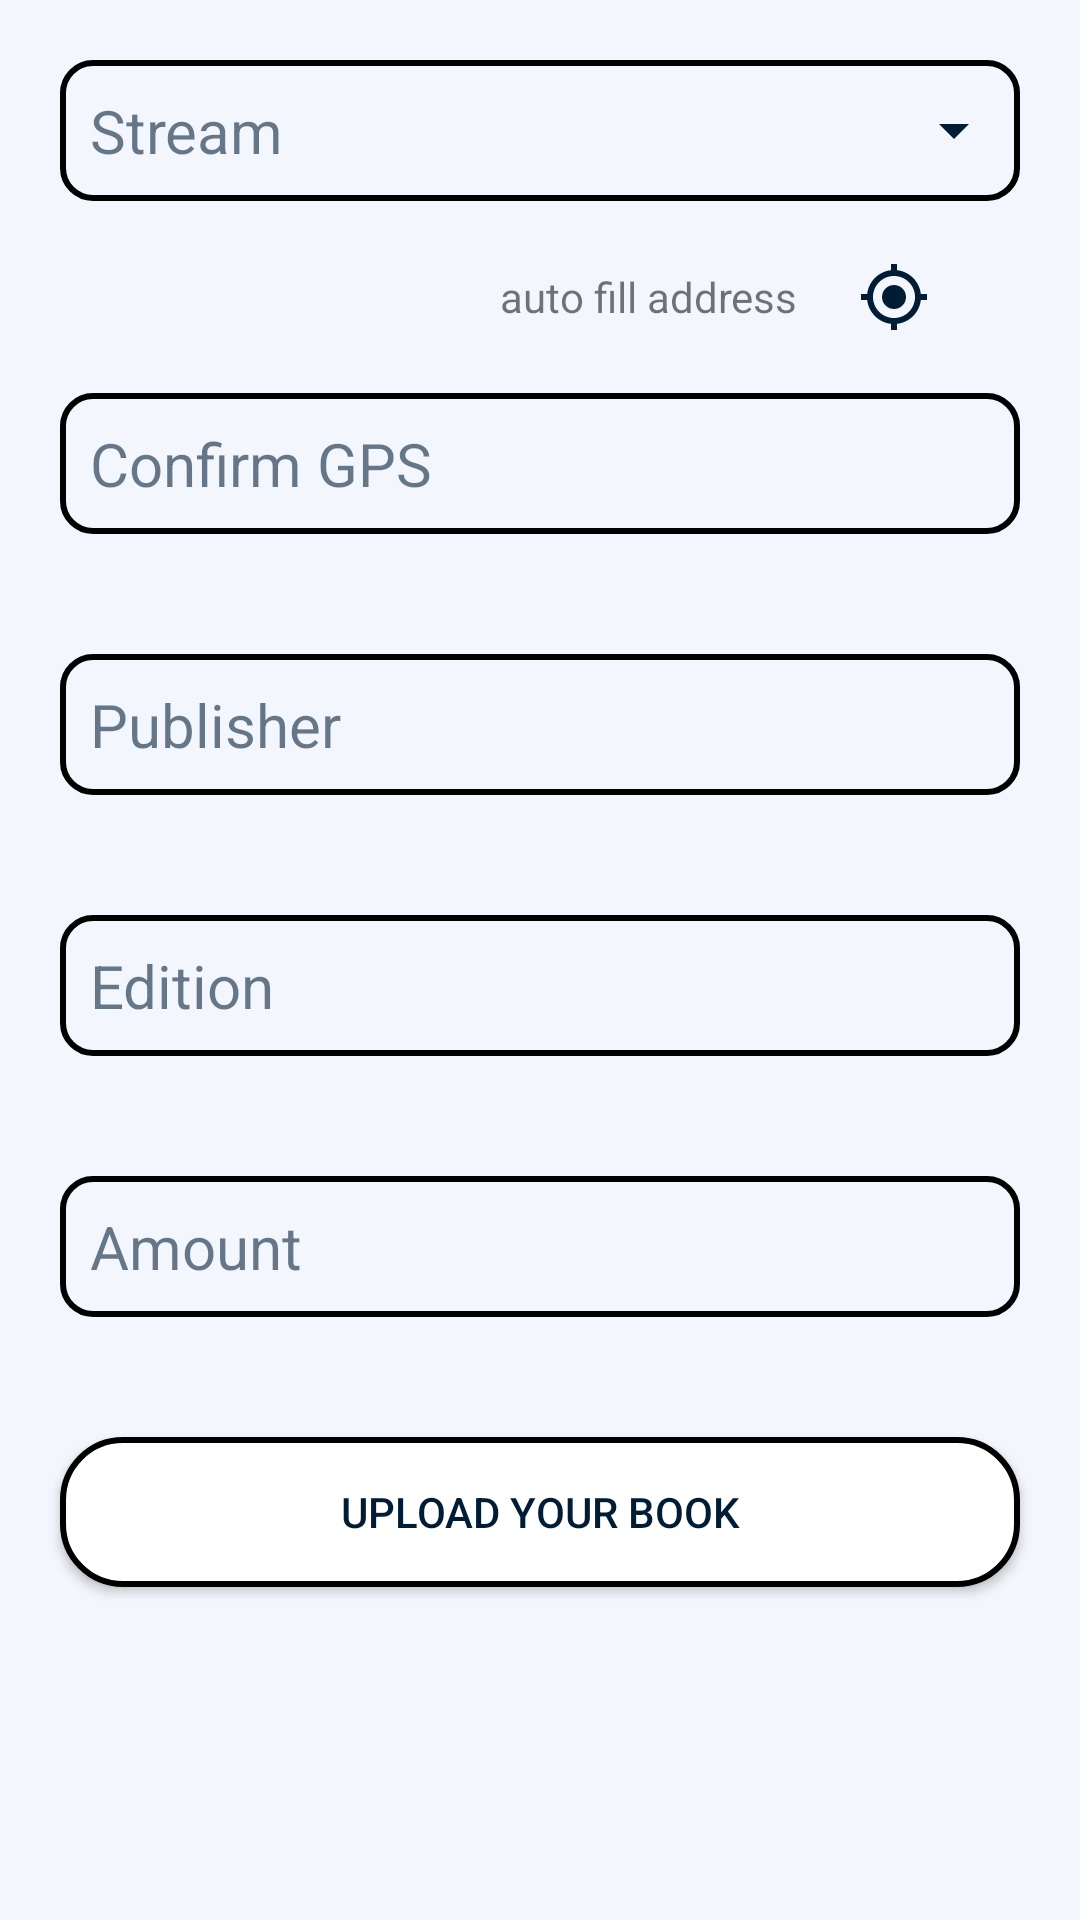

Named icons in this screenshot (1080w x 1920h) and their centers, [x,y]:
gps fixed: [894,297]
